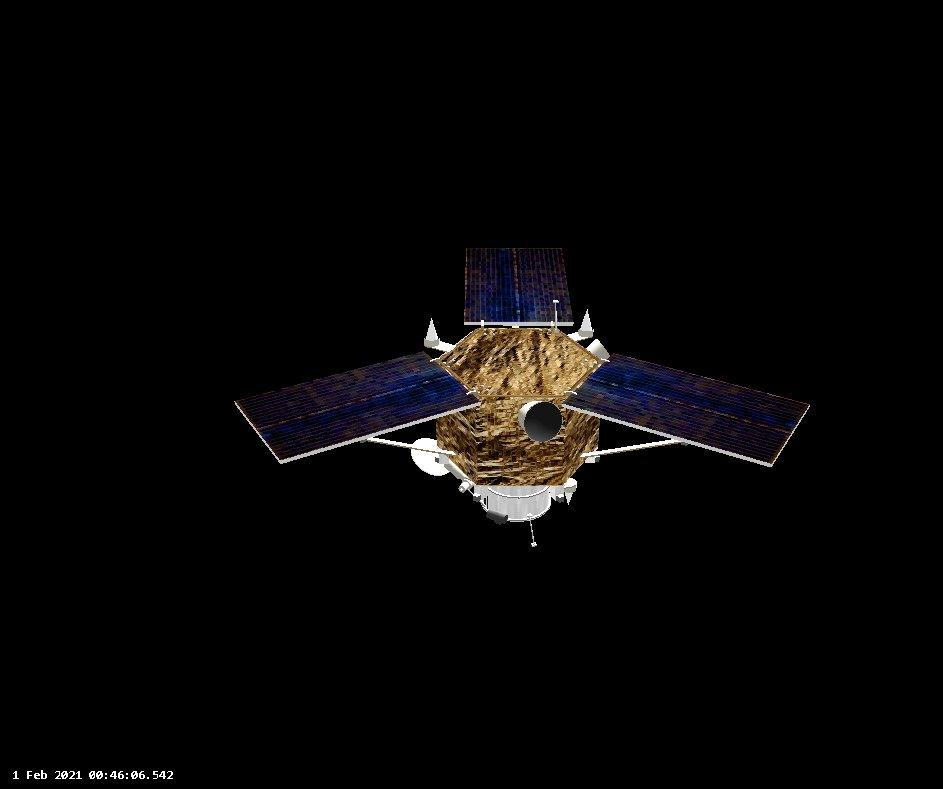antenna: (411, 434, 454, 479), (420, 312, 459, 356), (563, 304, 595, 348), (521, 514, 542, 549), (557, 477, 578, 505)
body: (434, 324, 606, 526)
solar: (234, 348, 480, 467), (564, 350, 812, 467), (458, 244, 576, 330)
thruster: (516, 397, 565, 442), (585, 339, 612, 360)
